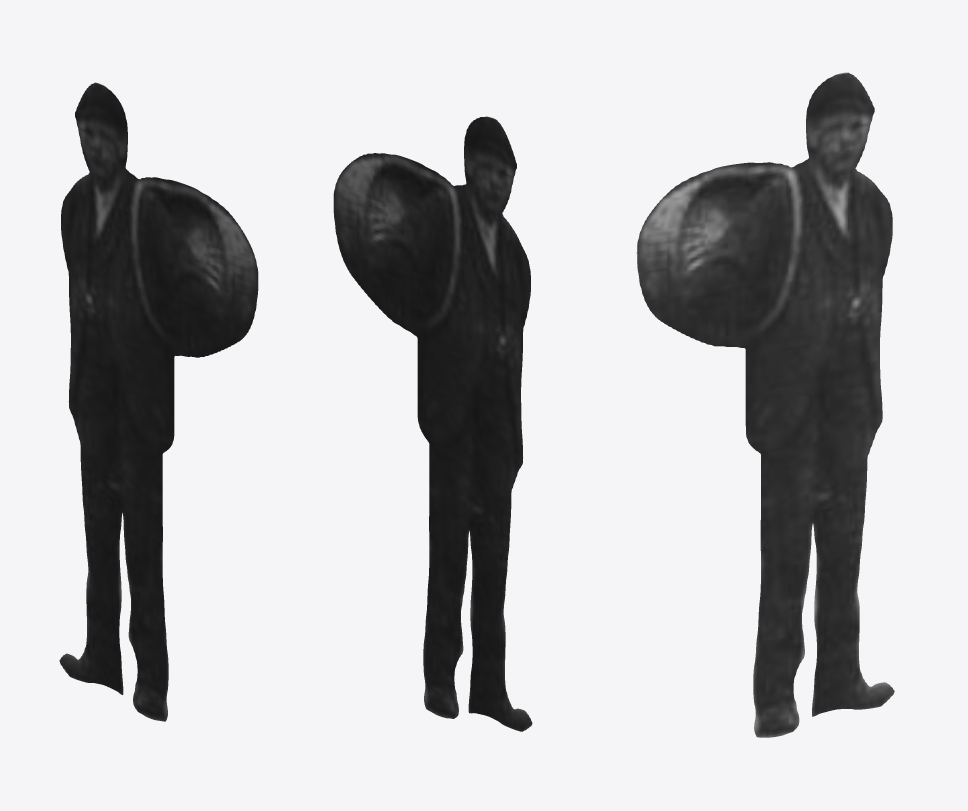
The model's file is boy_withcorb.FBX.
3 renders of one model, left to right at view 1: azimuth 30°, elevation 25°; view 2: azimuth 210°, elevation 25°; view 3: azimuth 270°, elevation 25°, orthographic. The views are drawn at different scales.
Visible parts, largest first — view 1: boy_withcorb; view 2: boy_withcorb; view 3: boy_withcorb.
Part boxes in pixels (bbox=[...]): boy_withcorb: bbox=[59, 82, 258, 721]; boy_withcorb: bbox=[333, 116, 532, 731]; boy_withcorb: bbox=[636, 72, 894, 737].
Size of the model in its own units: 23.4 by 148 by 63.86.
Materials: 1 (1 with a texture image).
